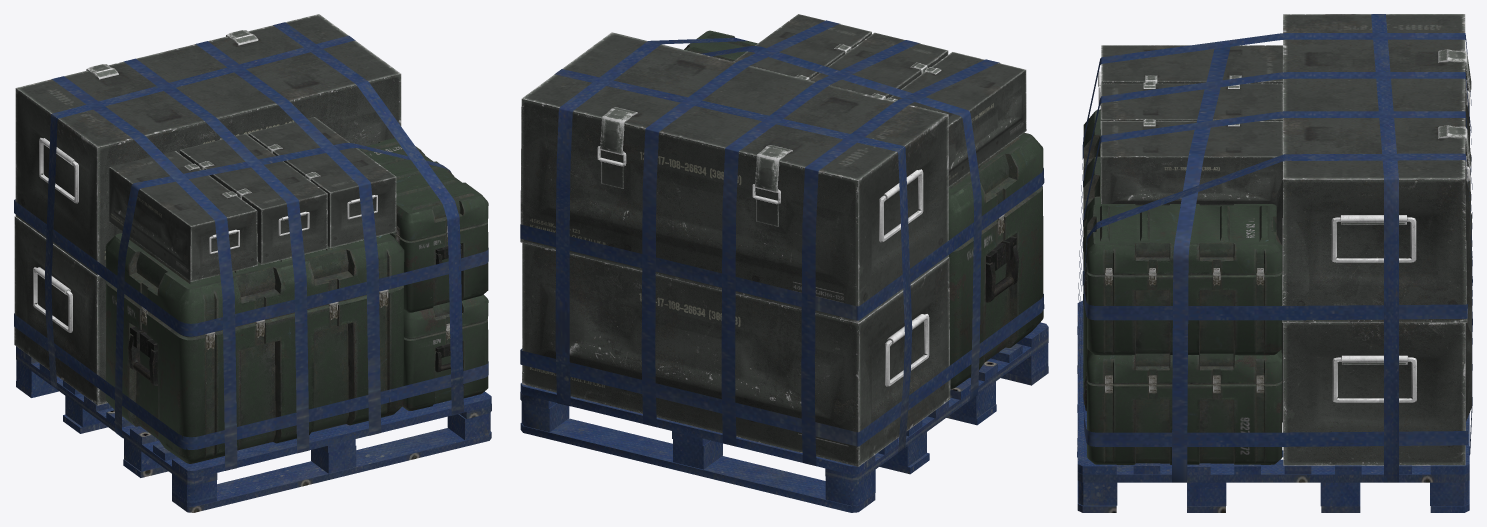
File: VV_MilitaryCrate.fbx
3 views of the same model, side by side, from view 1: azimuth 30°, elevation 25°; view 2: azimuth 150°, elevation 25°; view 3: azimuth 270°, elevation 25° (orthographic). The views are drawn at different scales.
Visible parts, largest first — view 1: VV_MilitaryCrate; view 2: VV_MilitaryCrate; view 3: VV_MilitaryCrate.
Boxes of the visible parts, bbox=[...] form: VV_MilitaryCrate: bbox=[14, 14, 491, 512]; VV_MilitaryCrate: bbox=[520, 14, 1048, 512]; VV_MilitaryCrate: bbox=[1077, 14, 1472, 512].
Size of the model in its own units: 327 by 300 by 319.
Materials: 3 (3 with a texture image).
